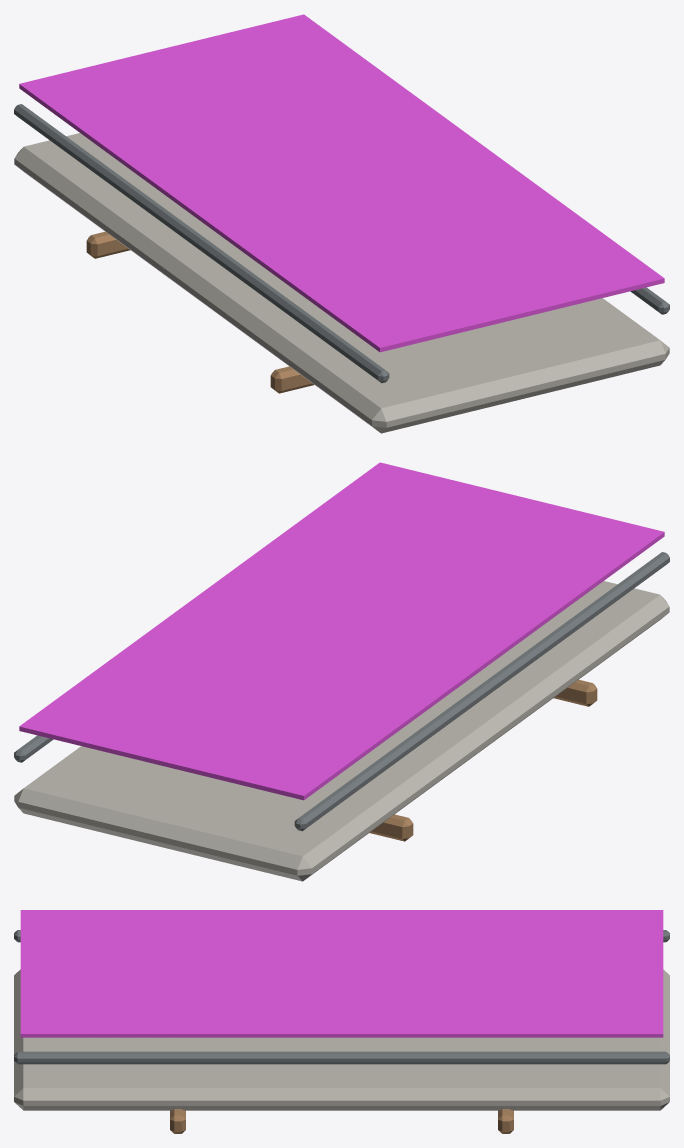
The picture shows the model from 3 angles, top to bottom: view 1: azimuth 30°, elevation 25°; view 2: azimuth 150°, elevation 25°; view 3: azimuth 270°, elevation 25°; orthographic projection. The views are drawn at different scales.
Parts seen in each view (by area): view 1: NAV_MASK_MINI_VEHICLE_BRIDGE, LOD2_MINI_VEHICLE_BRIDGE_Deck, LOD2_MINI_VEHICLE_BRIDGE_Rail, LOD2_MINI_VEHICLE_BRIDGE_CrossBeam_01, LOD2_MINI_VEHICLE_BRIDGE_CrossBeam_02; view 2: NAV_MASK_MINI_VEHICLE_BRIDGE, LOD2_MINI_VEHICLE_BRIDGE_Deck, LOD2_MINI_VEHICLE_BRIDGE_Rail, LOD2_MINI_VEHICLE_BRIDGE_CrossBeam_02, LOD2_MINI_VEHICLE_BRIDGE_CrossBeam_01; view 3: NAV_MASK_MINI_VEHICLE_BRIDGE, LOD2_MINI_VEHICLE_BRIDGE_Deck, LOD2_MINI_VEHICLE_BRIDGE_Rail.001, LOD2_MINI_VEHICLE_BRIDGE_CrossBeam_01, LOD2_MINI_VEHICLE_BRIDGE_CrossBeam_02.
Part boxes in pixels (x1,y1,x2,y2): NAV_MASK_MINI_VEHICLE_BRIDGE: (19,14,664,352); LOD2_MINI_VEHICLE_BRIDGE_Deck: (14,133,669,433); LOD2_MINI_VEHICLE_BRIDGE_Rail: (14,104,389,383); LOD2_MINI_VEHICLE_BRIDGE_CrossBeam_01: (270,366,314,393); LOD2_MINI_VEHICLE_BRIDGE_CrossBeam_02: (86,231,130,258); NAV_MASK_MINI_VEHICLE_BRIDGE: (19,462,664,800); LOD2_MINI_VEHICLE_BRIDGE_Deck: (14,581,669,881); LOD2_MINI_VEHICLE_BRIDGE_Rail: (294,552,669,831); LOD2_MINI_VEHICLE_BRIDGE_CrossBeam_02: (369,814,413,841); LOD2_MINI_VEHICLE_BRIDGE_CrossBeam_01: (553,679,597,706); NAV_MASK_MINI_VEHICLE_BRIDGE: (20,910,663,1037); LOD2_MINI_VEHICLE_BRIDGE_Deck: (14,969,669,1110); LOD2_MINI_VEHICLE_BRIDGE_Rail.001: (14,1051,669,1064); LOD2_MINI_VEHICLE_BRIDGE_CrossBeam_01: (170,1109,185,1133); LOD2_MINI_VEHICLE_BRIDGE_CrossBeam_02: (498,1109,513,1133).
Size of what is drawn, in the model's own units: 4.55 by 1.42 by 9.
